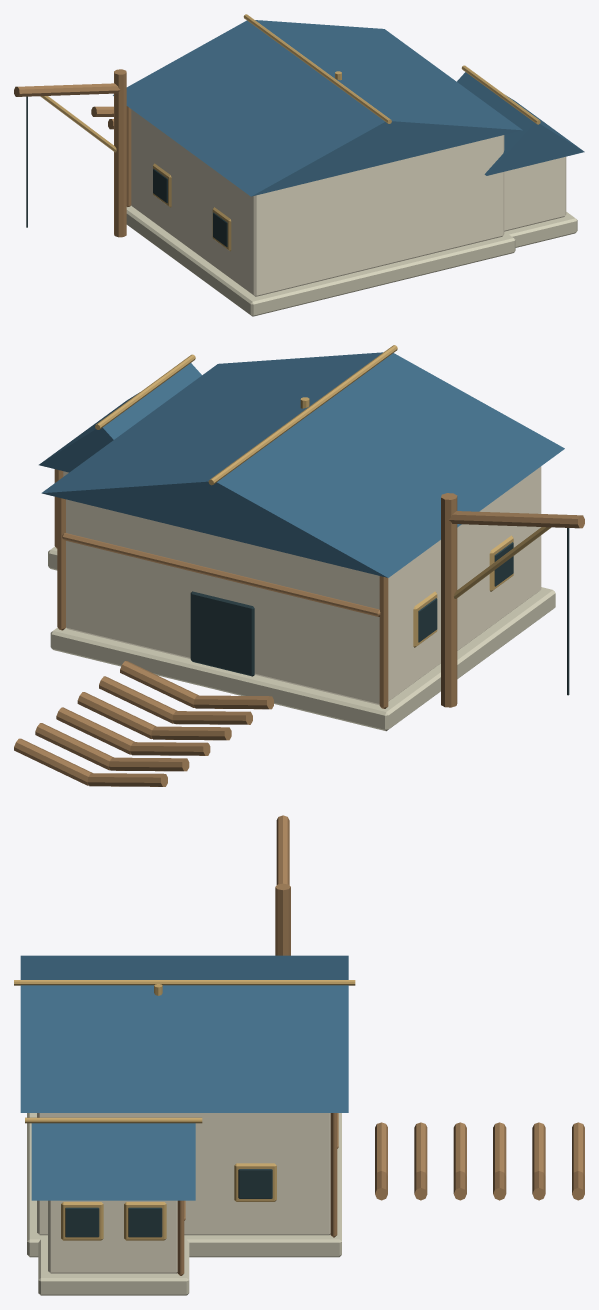
Rendered from level_12.glb.
3 views of the same model, one above another, from view 1: azimuth 30°, elevation 25°; view 2: azimuth 150°, elevation 25°; view 3: azimuth 270°, elevation 25° (orthographic). The views are drawn at different scales.
Visible parts, largest first — view 1: shipyard — level 12; view 2: shipyard — level 12; view 3: shipyard — level 12.
Part boxes in pixels (<box>): shipyard — level 12: <box>14,14,584,316</box>; shipyard — level 12: <box>14,345,584,786</box>; shipyard — level 12: <box>14,815,584,1295</box>.
Bounding box in the file's own units: 9.65 × 3.66 × 8.7.
